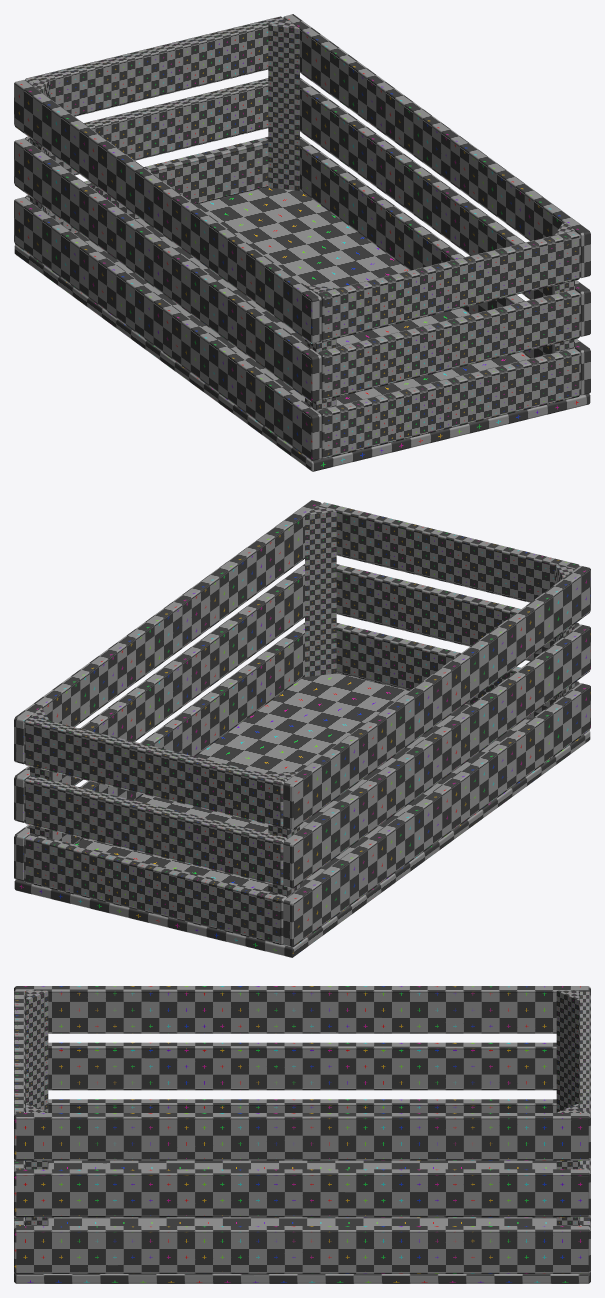
File: tray.glb
3 renders of one model, top to bottom at view 1: azimuth 30°, elevation 25°; view 2: azimuth 150°, elevation 25°; view 3: azimuth 270°, elevation 25°, orthographic. The views are drawn at different scales.
Parts seen in each view (by area): view 1: Bottom, Long boards.005, Long boards.006, Long boards.004, Long boards.002, Short boards.002, Short boards.003, Short boards.004, Long boards.003, Short boards.005, Long boards, Short boards.006 (+3 smaller); view 2: Bottom, Long boards.005, Long boards.006, Long boards.004, Long boards.002, Short boards, Short boards.005, Short boards.006, Long boards.003, Short boards.003, Long boards, Short boards.004 (+3 smaller); view 3: Long boards.003, Long boards, Long boards.002, Long boards.005, Long boards.004, Bottom, Long boards.006, Connectors, Connectors.001, Short boards.003, Short boards.005, Connectors.002 (+1 smaller).
Part boxes in pixels (x1=…): Bottom: x1=14, y1=187, x2=590, y2=471; Long boards.005: x1=14, y1=138, x2=321, y2=402; Long boards.006: x1=14, y1=197, x2=321, y2=461; Long boards.004: x1=14, y1=80, x2=321, y2=343; Long boards.002: x1=283, y1=14, x2=590, y2=278; Short boards.002: x1=318, y1=348, x2=580, y2=458; Short boards.003: x1=318, y1=230, x2=580, y2=341; Short boards.004: x1=318, y1=289, x2=580, y2=400; Long boards.003: x1=300, y1=78, x2=590, y2=336; Short boards.005: x1=25, y1=16, x2=286, y2=116; Long boards: x1=300, y1=136, x2=590, y2=395; Short boards.006: x1=25, y1=78, x2=268, y2=175; Bottom: x1=14, y1=673, x2=590, y2=957; Long boards.005: x1=283, y1=624, x2=590, y2=888; Long boards.006: x1=283, y1=683, x2=590, y2=947; Long boards.004: x1=283, y1=566, x2=590, y2=829; Long boards.002: x1=14, y1=500, x2=321, y2=764; Short boards: x1=24, y1=834, x2=286, y2=944; Short boards.005: x1=24, y1=716, x2=286, y2=827; Short boards.006: x1=24, y1=775, x2=286, y2=886; Long boards.003: x1=14, y1=564, x2=304, y2=822; Short boards.003: x1=318, y1=502, x2=579, y2=602; Long boards: x1=14, y1=622, x2=304, y2=881; Short boards.004: x1=336, y1=564, x2=579, y2=661; Long boards.003: x1=14, y1=1169, x2=590, y2=1217; Long boards: x1=14, y1=1226, x2=590, y2=1273; Long boards.002: x1=14, y1=1113, x2=590, y2=1160; Long boards.005: x1=48, y1=1042, x2=556, y2=1090; Long boards.004: x1=14, y1=986, x2=590, y2=1033; Bottom: x1=14, y1=1160, x2=590, y2=1283; Long boards.006: x1=48, y1=1099, x2=556, y2=1112; Connectors: x1=25, y1=990, x2=48, y2=1112; Connectors.001: x1=556, y1=990, x2=579, y2=1112; Short boards.003: x1=14, y1=991, x2=25, y2=1114; Short boards.005: x1=579, y1=991, x2=590, y2=1114; Connectors.002: x1=556, y1=1103, x2=579, y2=1225.
Size of the model in its own units: 0.27 by 0.16 by 0.5.
1 material, 1 textured.
